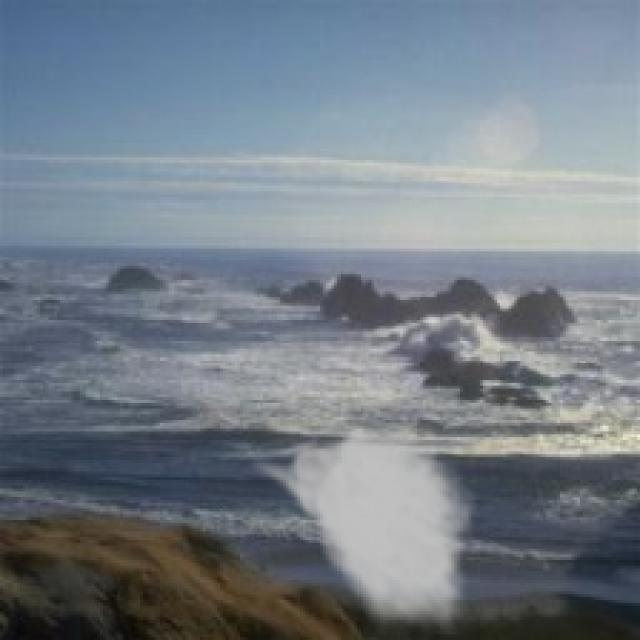smoke: (246, 414, 477, 637)
